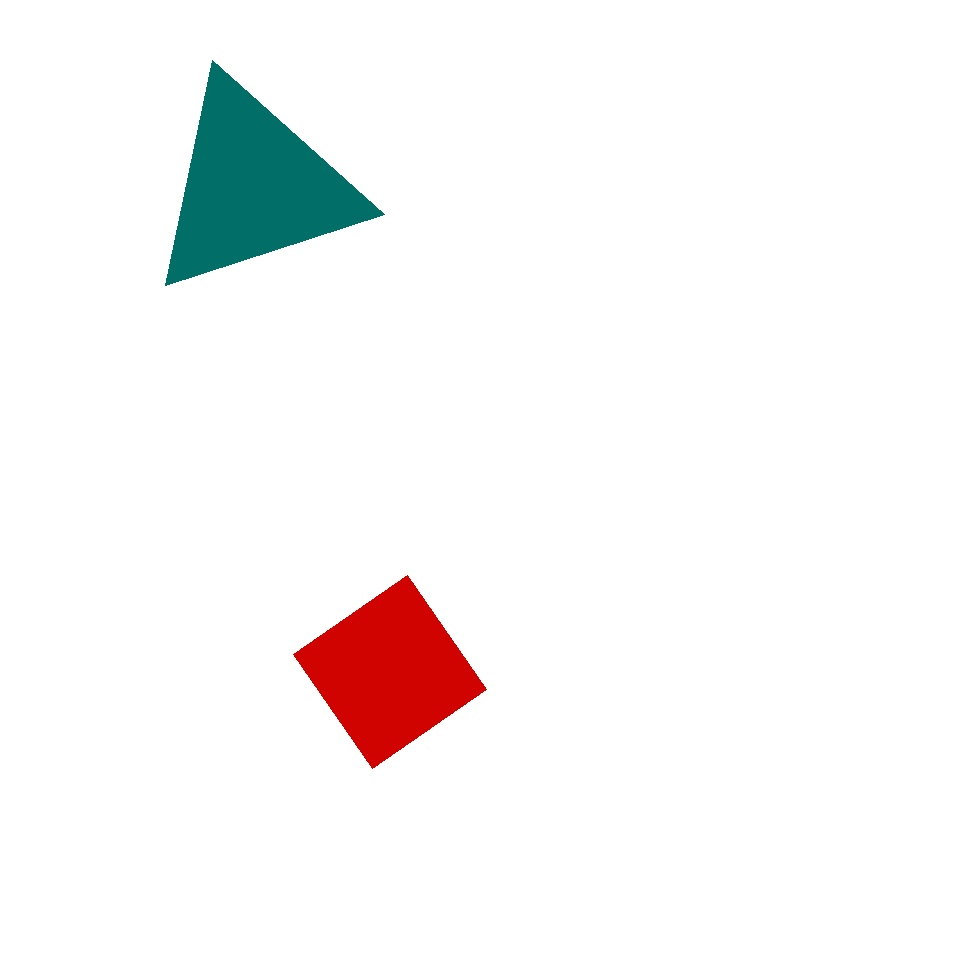circle: (144, 74, 364, 300), (218, 484, 310, 586), (660, 488, 758, 582)
square: (294, 575, 487, 768), (724, 184, 914, 376), (276, 308, 466, 496)
